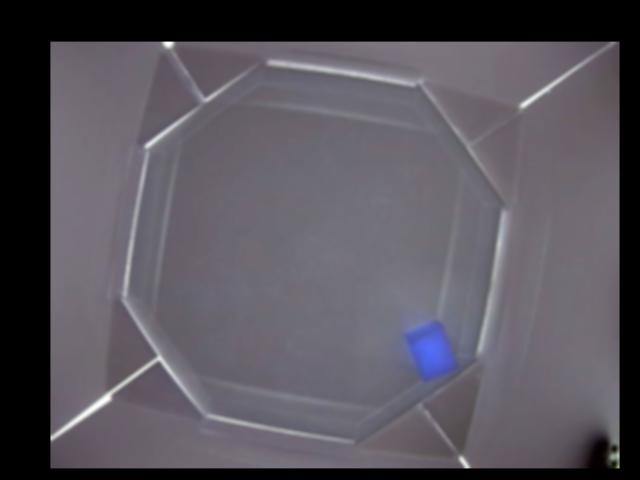Potato: (403, 321, 460, 384)
